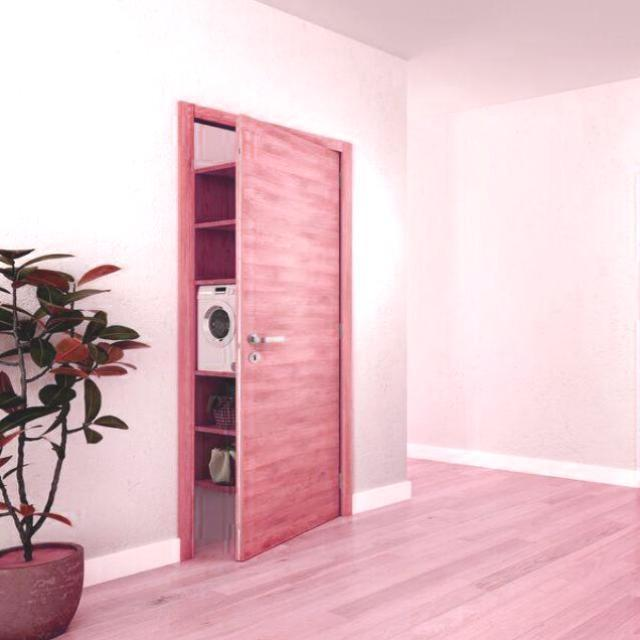door: (232, 108, 360, 572)
